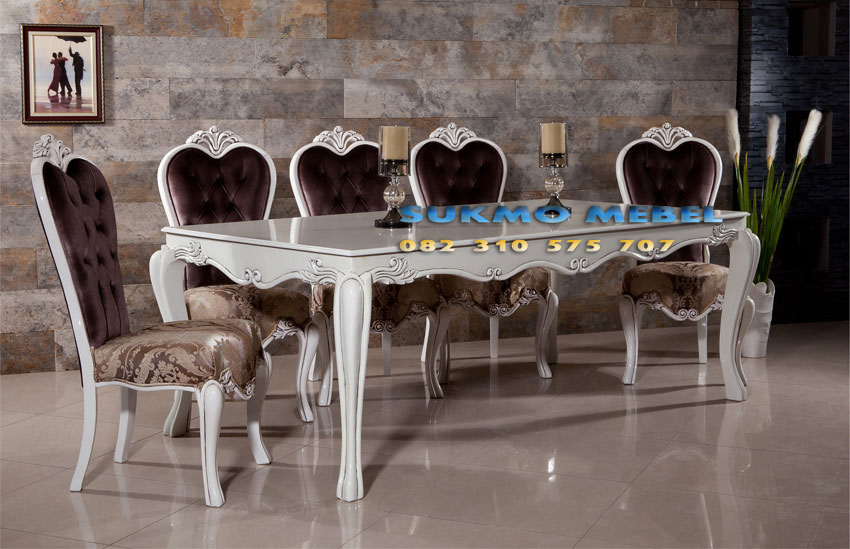Carving Chair: (23, 141, 279, 516)
Carving Table: (154, 217, 764, 488)
